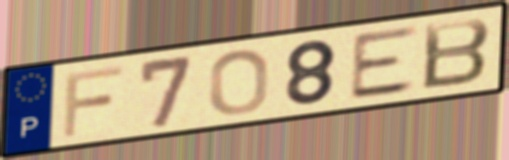7: (136, 53, 196, 130)
8: (284, 38, 338, 108)
B: (419, 16, 493, 93)
E: (347, 23, 422, 103)
F: (60, 63, 127, 139)
O: (207, 47, 272, 117)
